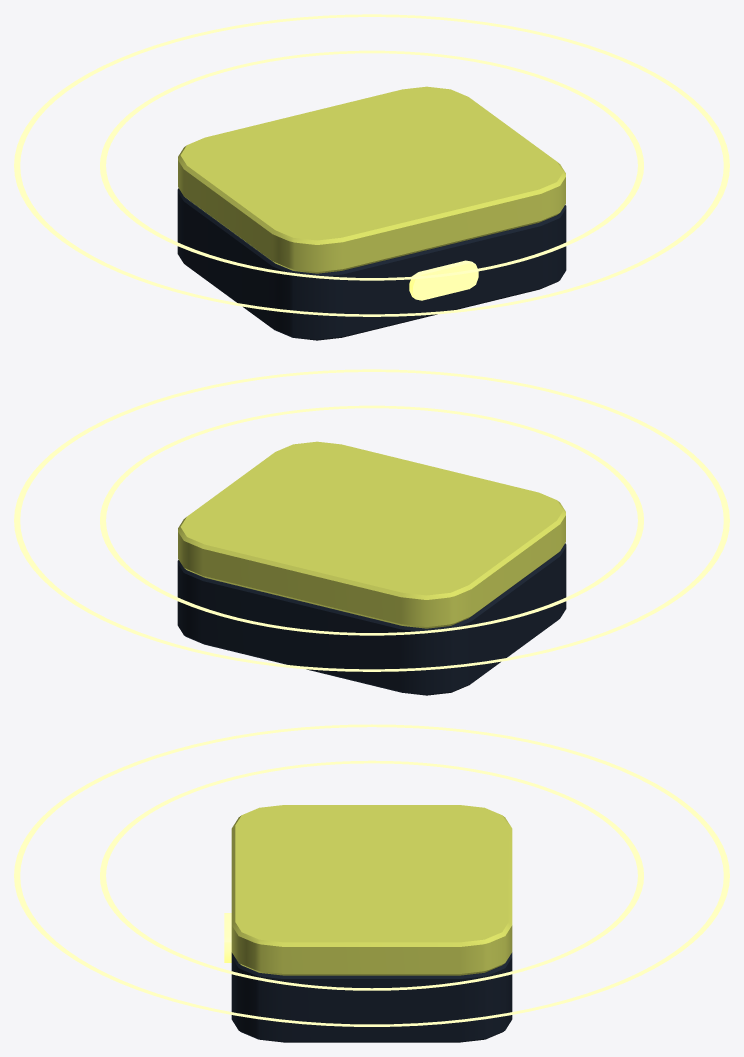
The model's file is pn_ico_antena.glb.
3 renders of one model, top to bottom at view 1: azimuth 30°, elevation 25°; view 2: azimuth 150°, elevation 25°; view 3: azimuth 270°, elevation 25°, orthographic.
Parts seen in each view (by area): view 1: pn_ico_antena; view 2: pn_ico_antena; view 3: pn_ico_antena.
Part boxes in pixels (bbox=[...]): pn_ico_antena: bbox=[14, 14, 729, 340]; pn_ico_antena: bbox=[14, 369, 729, 695]; pn_ico_antena: bbox=[14, 724, 729, 1042].
Size of the model in its own units: 0.58 by 0.089 by 0.58.
